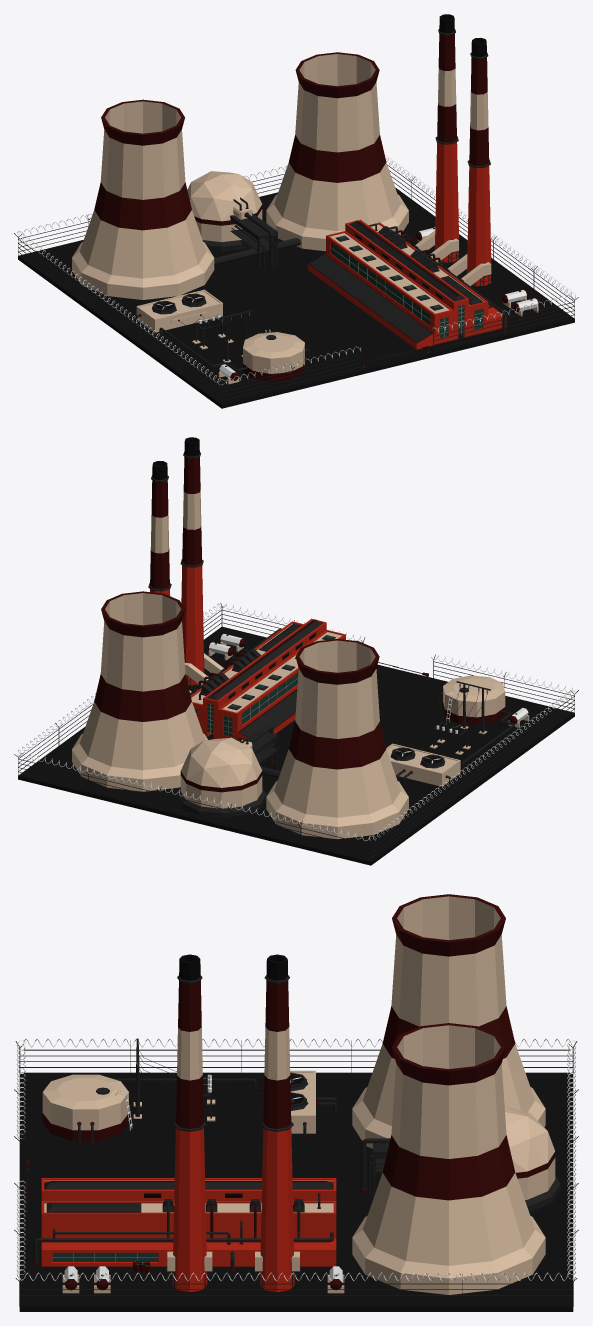
Rendered from PowerPlant.FBX.
3 renders of one model, top to bottom at view 1: azimuth 30°, elevation 25°; view 2: azimuth 150°, elevation 25°; view 3: azimuth 270°, elevation 25°, orthographic. The views are drawn at different scales.
Visible parts, largest first — view 1: PowerPlant, coolingTower_02, coolingTower_01, mainBuilding, reactor, chimney_02, chimney_01, substation, waterTank, fenceGate, fence_03, fence_02 (+3 smaller); view 2: PowerPlant, coolingTower_02, coolingTower_01, mainBuilding, reactor, chimney_02, substation, waterTank, chimney_01, fence_01, fence_03, fenceGate (+2 smaller); view 3: PowerPlant, coolingTower_01, mainBuilding, coolingTower_02, chimney_02, chimney_01, waterTank, reactor, fence_02, substation, fence_03, barbwire_02 (+3 smaller).
Part boxes in pixels (x1,y1,x2,y2): PowerPlant: [18, 187, 574, 408]; coolingTower_02: [72, 99, 214, 299]; coolingTower_01: [266, 52, 408, 251]; mainBuilding: [308, 219, 506, 349]; reactor: [187, 171, 300, 270]; chimney_02: [447, 38, 491, 288]; chimney_01: [415, 14, 459, 264]; substation: [135, 289, 253, 362]; waterTank: [159, 327, 310, 381]; fenceGate: [222, 302, 574, 400]; fence_03: [18, 239, 221, 400]; fence_02: [387, 165, 574, 314]; PowerPlant: [18, 626, 574, 865]; coolingTower_02: [266, 639, 408, 839]; coolingTower_01: [72, 591, 207, 791]; mainBuilding: [190, 618, 345, 741]; reactor: [176, 725, 280, 817]; chimney_02: [180, 437, 224, 685]; substation: [386, 681, 490, 786]; waterTank: [438, 675, 514, 770]; chimney_01: [148, 461, 191, 693]; fence_01: [18, 759, 370, 857]; fence_03: [371, 696, 574, 857]; fenceGate: [222, 609, 574, 708]; PowerPlant: [19, 1072, 573, 1311]; coolingTower_01: [352, 1023, 545, 1294]; mainBuilding: [32, 1178, 336, 1272]; coolingTower_02: [352, 894, 545, 1148]; chimney_02: [166, 954, 213, 1292]; chimney_01: [254, 954, 300, 1292]; waterTank: [42, 1074, 257, 1145]; reactor: [359, 1106, 560, 1212]; fence_02: [20, 1274, 572, 1306]; substation: [133, 1038, 337, 1137]; fence_03: [20, 1040, 572, 1072]; barbwire_02: [18, 1272, 571, 1281].
Bounding box in the file's own units: 1020 × 1020 × 660.
